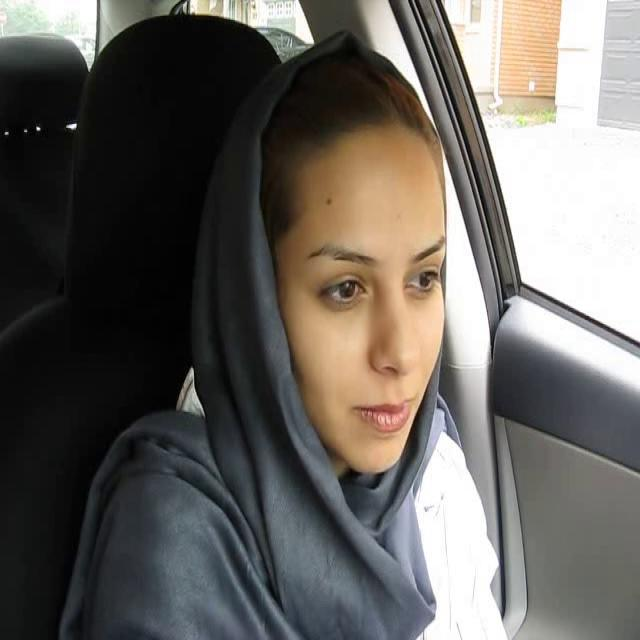close: (352, 394, 414, 436)
